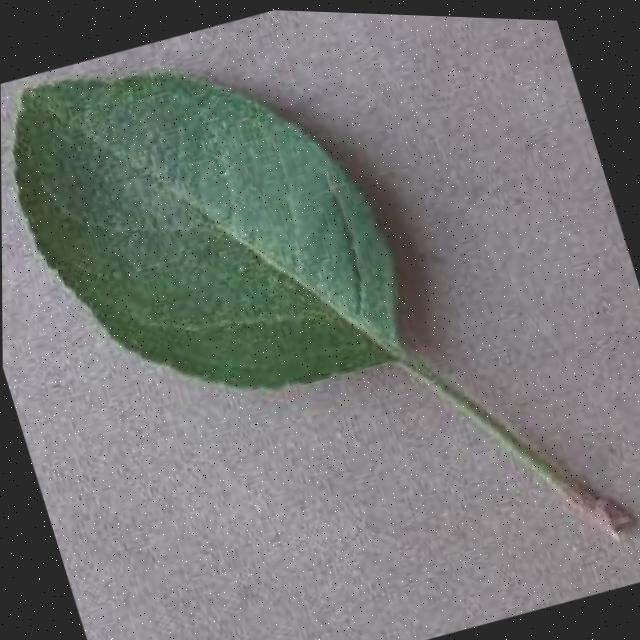healthy: (0, 0, 440, 478)
